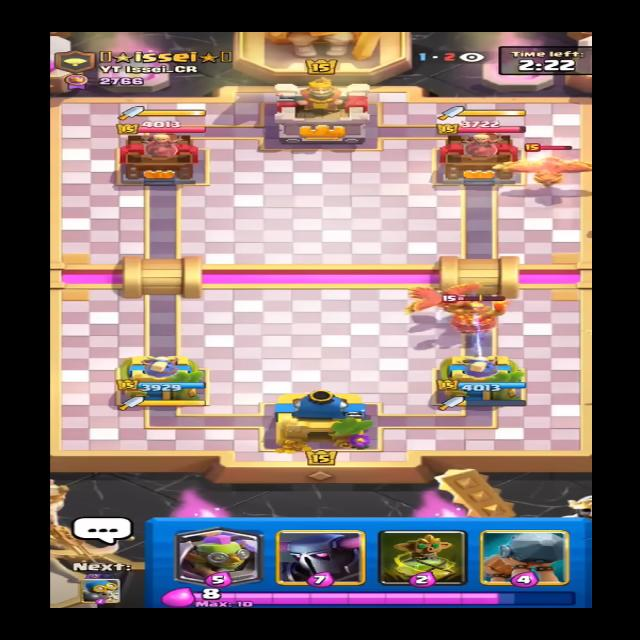goblin-demolisher: (440, 294, 518, 337)
phoenix: (492, 144, 592, 188)
